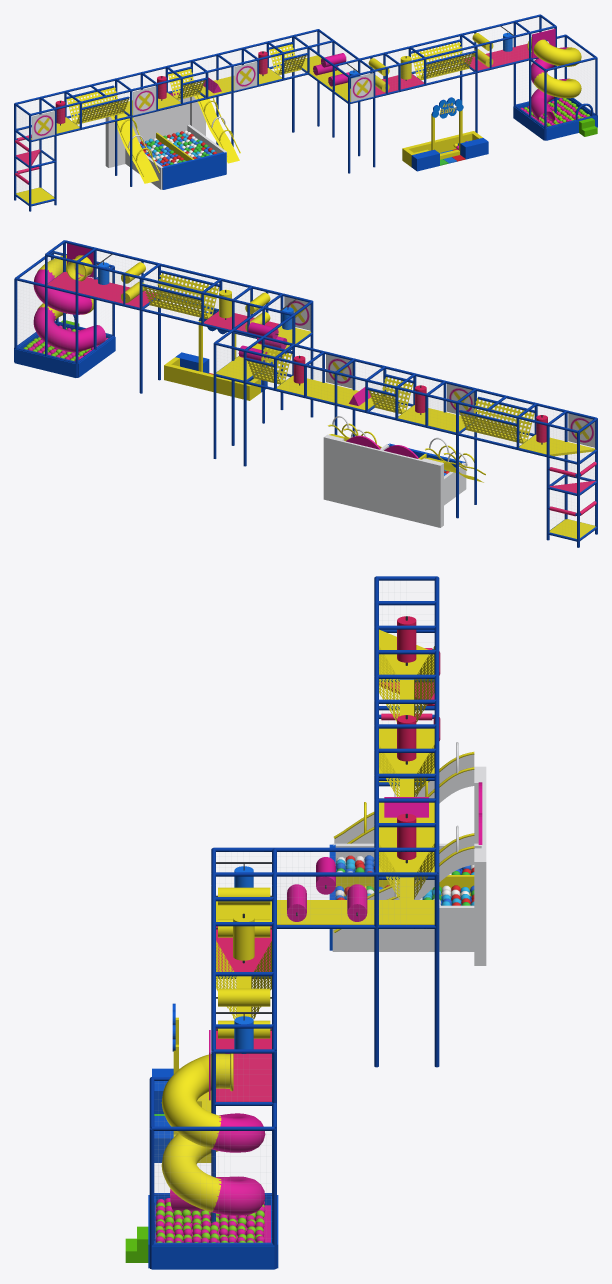
Rendered from brinquedao-modelo-4.glb.
The picture shows the model from 3 angles, top to bottom: view 1: azimuth 30°, elevation 25°; view 2: azimuth 150°, elevation 25°; view 3: azimuth 270°, elevation 25°; orthographic projection. The views are drawn at different scales.
Parts seen in each view (by area): view 1: tubos-azuis, amarelo, espuma-azul, rede-amarela, branco, bolinhas, painel-x, escorregador-amarelo, toboga-amarelo, piso-pink, magenta, toboga-magenta (+4 smaller); view 2: tubos-azuis, amarelo, branco, rede-amarela, toboga-magenta, piso-pink, espuma-azul, painel-x, magenta, tela-protecao, toboga-amarelo, rolo-vermelho (+2 smaller); view 3: tubos-azuis, amarelo, branco, toboga-amarelo, bolinhas, espuma-azul, rede-amarela, piso-pink, magenta, toboga-magenta, rolo-vermelho, saco-azul (+1 smaller).
Boxes of the visible parts, x1=… form: tubos-azuis: x1=14, y1=14, x2=597, y2=211; amarelo: x1=16, y1=33, x2=493, y2=203; espuma-azul: x1=162, y1=97, x2=597, y2=189; rede-amarela: x1=67, y1=42, x2=474, y2=123; branco: x1=105, y1=96, x2=226, y2=189; bolinhas: x1=139, y1=98, x2=590, y2=166; painel-x: x1=32, y1=61, x2=373, y2=140; escorregador-amarelo: x1=110, y1=95, x2=239, y2=183; toboga-amarelo: x1=527, y1=37, x2=581, y2=98; piso-pink: x1=15, y1=43, x2=536, y2=184; magenta: x1=169, y1=29, x2=555, y2=96; toboga-magenta: x1=531, y1=47, x2=569, y2=122; tubos-azuis: x1=14, y1=240, x2=597, y2=547; amarelo: x1=121, y1=262, x2=595, y2=538; branco: x1=323, y1=416, x2=467, y2=527; rede-amarela: x1=143, y1=273, x2=534, y2=442; toboga-magenta: x1=33, y1=269, x2=105, y2=352; piso-pink: x1=47, y1=272, x2=596, y2=516; espuma-azul: x1=14, y1=311, x2=465, y2=467; painel-x: x1=284, y1=296, x2=594, y2=447; magenta: x1=67, y1=243, x2=418, y2=458; tela-protecao: x1=18, y1=257, x2=593, y2=477; toboga-amarelo: x1=37, y1=255, x2=93, y2=320; rolo-vermelho: x1=293, y1=356, x2=547, y2=442; tubos-azuis: x1=149, y1=576, x2=439, y2=1269; amarelo: x1=173, y1=629, x2=474, y2=1162; branco: x1=332, y1=742, x2=486, y2=965; toboga-amarelo: x1=161, y1=1053, x2=233, y2=1212; bolinhas: x1=155, y1=855, x2=474, y2=1242; espuma-azul: x1=148, y1=844, x2=471, y2=1269; rede-amarela: x1=216, y1=646, x2=434, y2=1019; piso-pink: x1=216, y1=648, x2=440, y2=1101; magenta: x1=155, y1=782, x2=482, y2=1242; toboga-magenta: x1=170, y1=1113, x2=265, y2=1215; rolo-vermelho: x1=397, y1=616, x2=416, y2=859; saco-azul: x1=234, y1=866, x2=253, y2=1053.
Bounding box in the file's own units: 19.62 × 3.55 × 5.98.
Materials: 19 (4 with a texture image).
